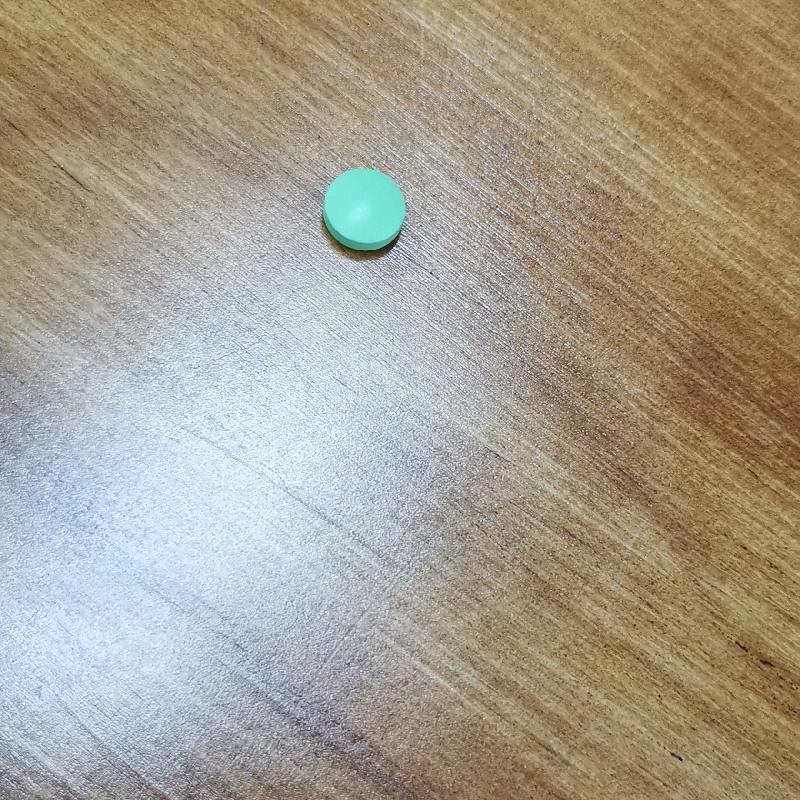pills: (320, 164, 412, 265)
